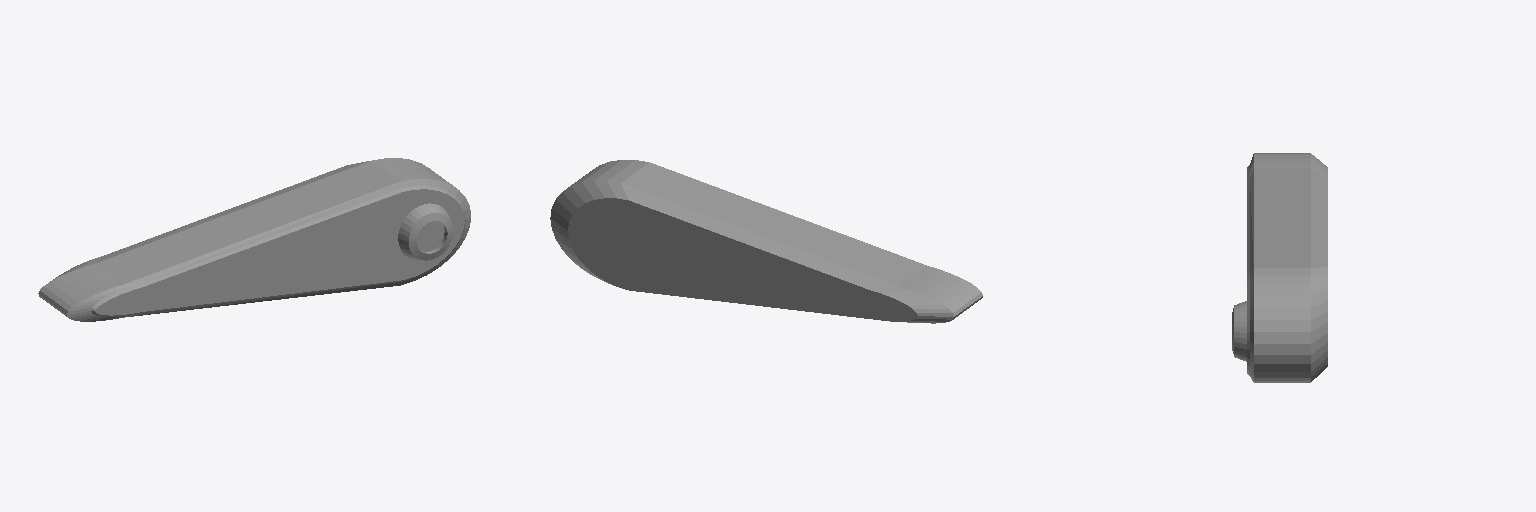
The model's file is Palette.obj.
The picture shows the model from 3 angles: view 1: azimuth 30°, elevation 25°; view 2: azimuth 150°, elevation 25°; view 3: azimuth 270°, elevation 25°; orthographic projection.
Visible parts, largest first — view 1: Cylinder, Cylinder.001; view 2: Cylinder; view 3: Cylinder, Cylinder.001.
Boxes of the visible parts, box(x1,y1,x2,y2) form: Cylinder: box(38, 158, 470, 321); Cylinder.001: box(398, 203, 452, 260); Cylinder: box(550, 160, 982, 323); Cylinder: box(1247, 153, 1327, 382); Cylinder.001: box(1232, 301, 1246, 361).
Bounding box in the file's own units: 57.13 × 14.05 × 11.78.